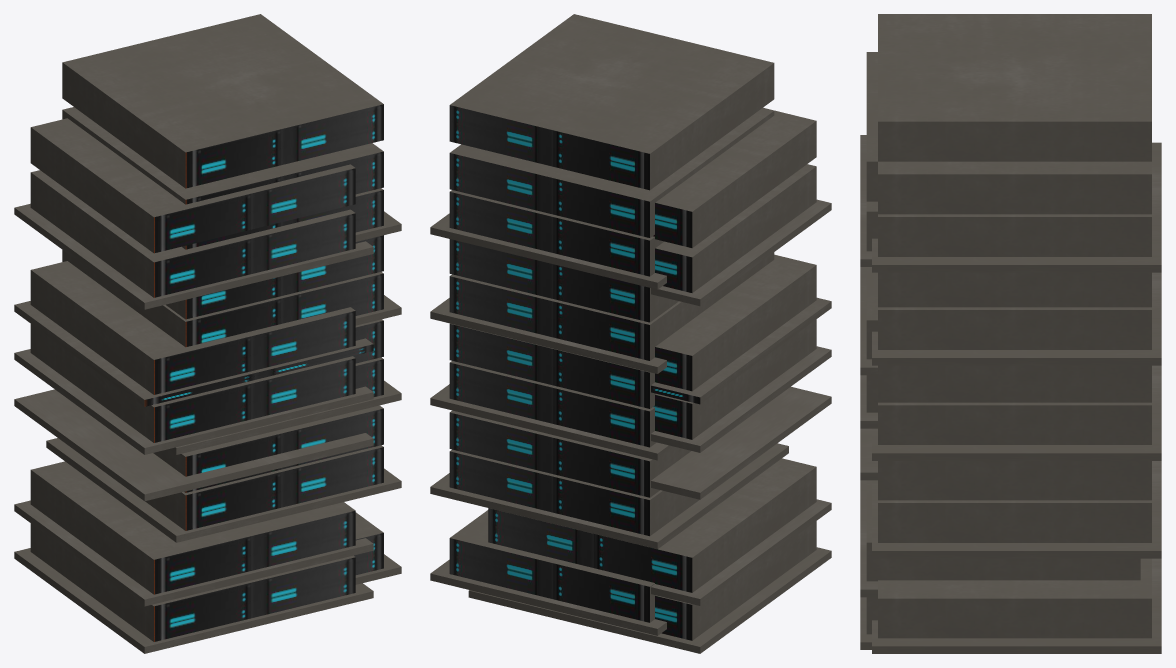
Rendered from serverDesign2_lo.fbx.
3 views of the same model, side by side, from view 1: azimuth 30°, elevation 25°; view 2: azimuth 150°, elevation 25°; view 3: azimuth 270°, elevation 25° (orthographic). The views are drawn at different scales.
Visible parts, largest first — view 1: server14, server6, server5, server3, server1, server4, server2, rack5, server10, server12, server15, server9 (+15 smaller); view 2: server14, server6, server15, server5, server3, server12, server13, server10, server9, server16, server8, server11 (+15 smaller); view 3: server14, server13, server15, server12, server8, server16, server10, server9, server11, server7, server6, rack7 (+14 smaller).
Part boxes in pixels (x1,y1,x2,y2): server14: (62,14,383,188); server6: (30,461,355,594); server5: (30,118,355,253); server3: (30,261,355,394); server1: (30,170,355,297); server4: (30,324,355,442); server2: (30,523,355,641); rack5: (14,389,373,501); server10: (145,445,383,530); server12: (62,250,383,347); server15: (62,107,383,204); server9: (153,405,383,492); server14: (449,14,774,190); server6: (488,458,816,592); server15: (449,108,774,237); server5: (653,107,816,247); server3: (655,254,816,391); server12: (449,252,774,360); server13: (449,510,655,622); server10: (449,449,699,536); server9: (449,410,690,497); server16: (449,190,663,276); server8: (449,361,656,447); server11: (449,323,655,408); server14: (878,14,1151,161); server13: (878,558,1151,638); server15: (878,161,1151,214); server12: (878,307,1151,349); server8: (878,402,1151,444); server16: (878,214,1151,256); server10: (878,500,1151,542); server9: (878,461,1151,500); server11: (878,365,1151,402); server7: (878,272,1151,307); server6: (866,480,1140,581); rack7: (872,142,1161,272).
Size of the model in its own units: 46.29 by 81.67 by 41.39.
1 material, 1 textured.
